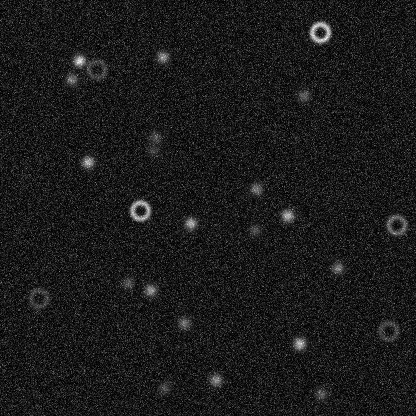Ring: (26, 286, 50, 310), (128, 198, 152, 222), (384, 212, 408, 236), (308, 20, 332, 44), (84, 57, 108, 81), (376, 318, 400, 342)
Spot: (176, 314, 192, 330), (313, 386, 329, 402), (207, 372, 223, 388), (329, 259, 345, 275), (182, 215, 198, 231), (154, 48, 170, 64), (71, 52, 87, 68), (144, 142, 160, 158), (79, 154, 95, 170), (295, 87, 311, 103), (248, 180, 264, 196), (155, 379, 171, 395), (63, 71, 79, 87), (246, 222, 262, 238), (147, 128, 163, 144), (291, 335, 307, 351), (119, 275, 135, 291), (142, 281, 158, 297), (279, 207, 295, 223)
